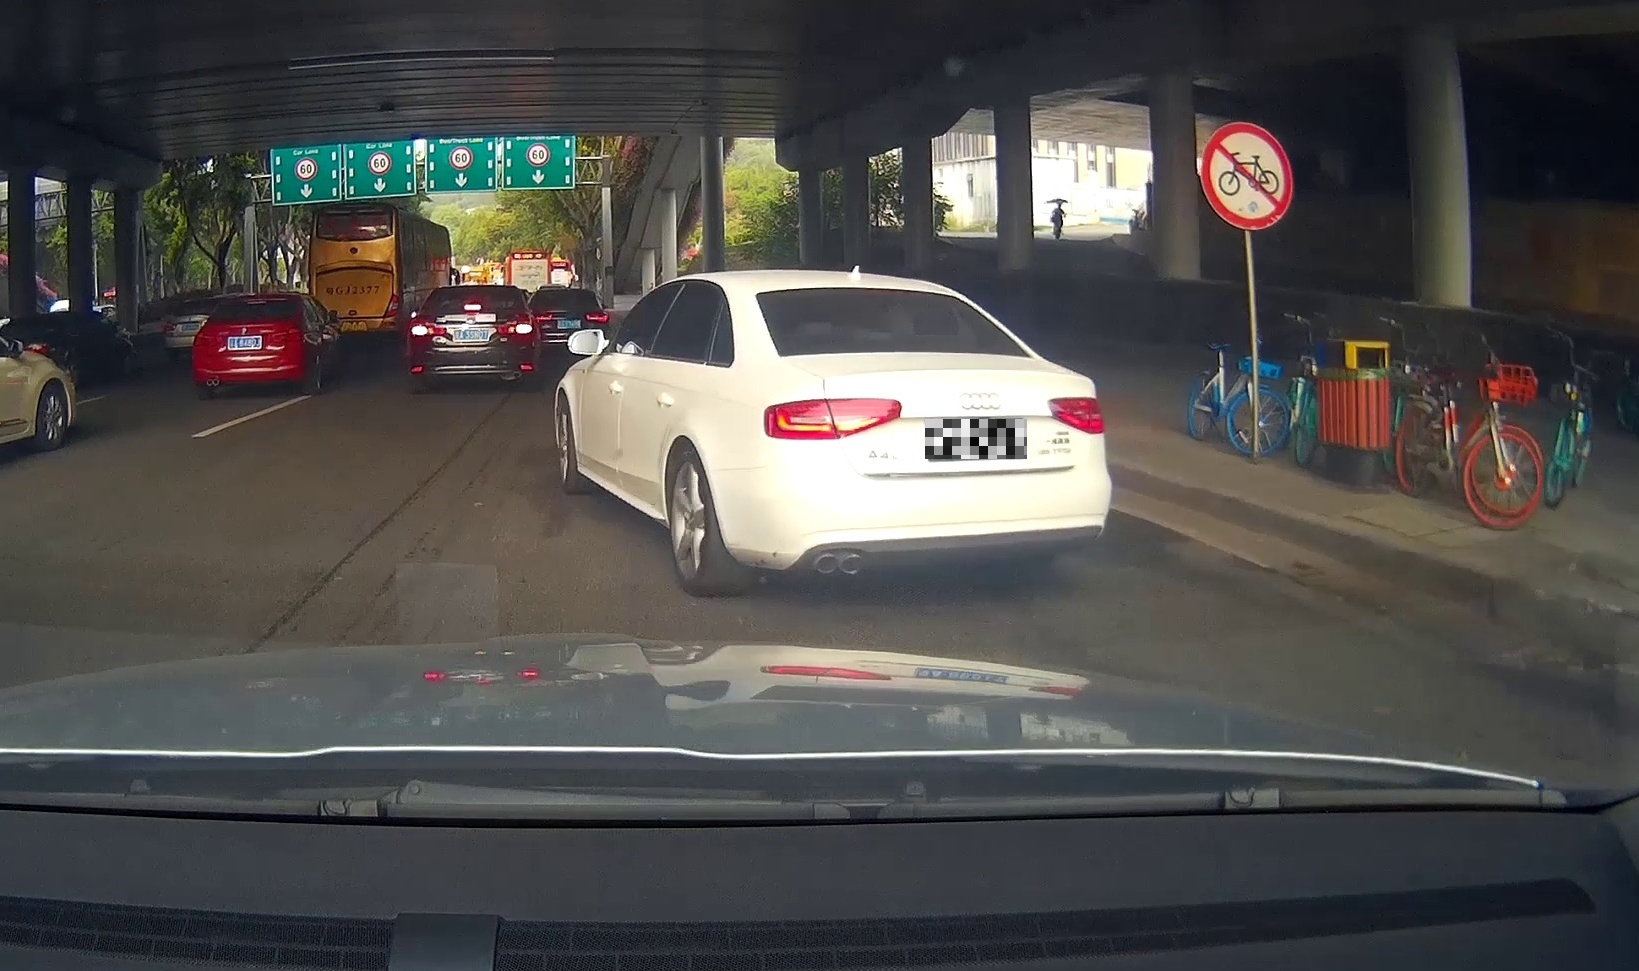L_light: (764, 396, 902, 440), (410, 323, 446, 336), (193, 333, 221, 347)
R_light: (1048, 396, 1105, 435), (498, 320, 533, 334), (272, 329, 301, 342)
T_light: (841, 286, 877, 295), (246, 301, 268, 305), (463, 304, 480, 310)
day-brake: (407, 286, 539, 391)
day-left: (755, 269, 1113, 594)
day-no: (192, 292, 307, 398)
plate_1: (925, 418, 1028, 459)
